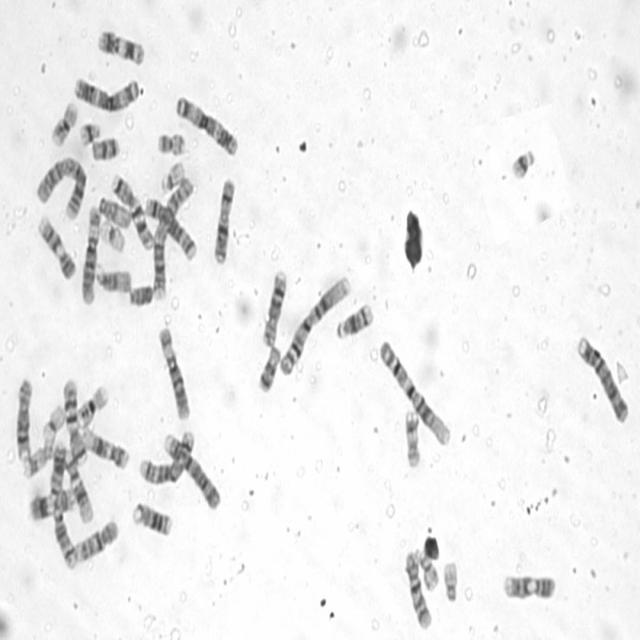A1: (276, 270, 353, 378), (378, 336, 452, 447)
A2: (150, 175, 195, 302), (34, 151, 88, 221)
A3: (172, 91, 240, 158), (72, 74, 140, 114)
B4: (575, 330, 630, 426), (162, 430, 222, 512)
B5: (142, 194, 198, 262), (137, 427, 196, 485)
C10: (402, 545, 433, 632), (74, 516, 120, 564)
C11: (95, 26, 146, 66), (28, 486, 76, 524)
C12: (63, 448, 95, 525), (80, 424, 130, 471)
C6: (155, 322, 191, 422), (80, 202, 102, 304)
C7: (108, 170, 156, 253), (61, 375, 88, 465)
C8: (260, 268, 288, 348), (13, 373, 34, 464)
C9: (35, 209, 77, 281), (501, 568, 557, 602)
D13: (129, 497, 174, 538), (48, 439, 68, 496)
D14: (51, 498, 78, 568), (333, 298, 375, 340)
D15: (96, 193, 132, 230), (94, 260, 132, 294)
E16: (75, 380, 109, 430), (48, 98, 78, 149)
E17: (20, 440, 55, 480), (402, 404, 422, 469)
E18: (255, 342, 282, 394), (88, 132, 121, 164)
F19: (39, 400, 66, 447), (98, 216, 126, 254)
F20: (416, 547, 441, 593), (155, 128, 187, 157)
G21: (508, 143, 537, 180), (77, 118, 102, 148)
G22: (158, 158, 186, 195), (442, 558, 459, 604)
X: (212, 174, 236, 264)
Y: (127, 281, 153, 308)
